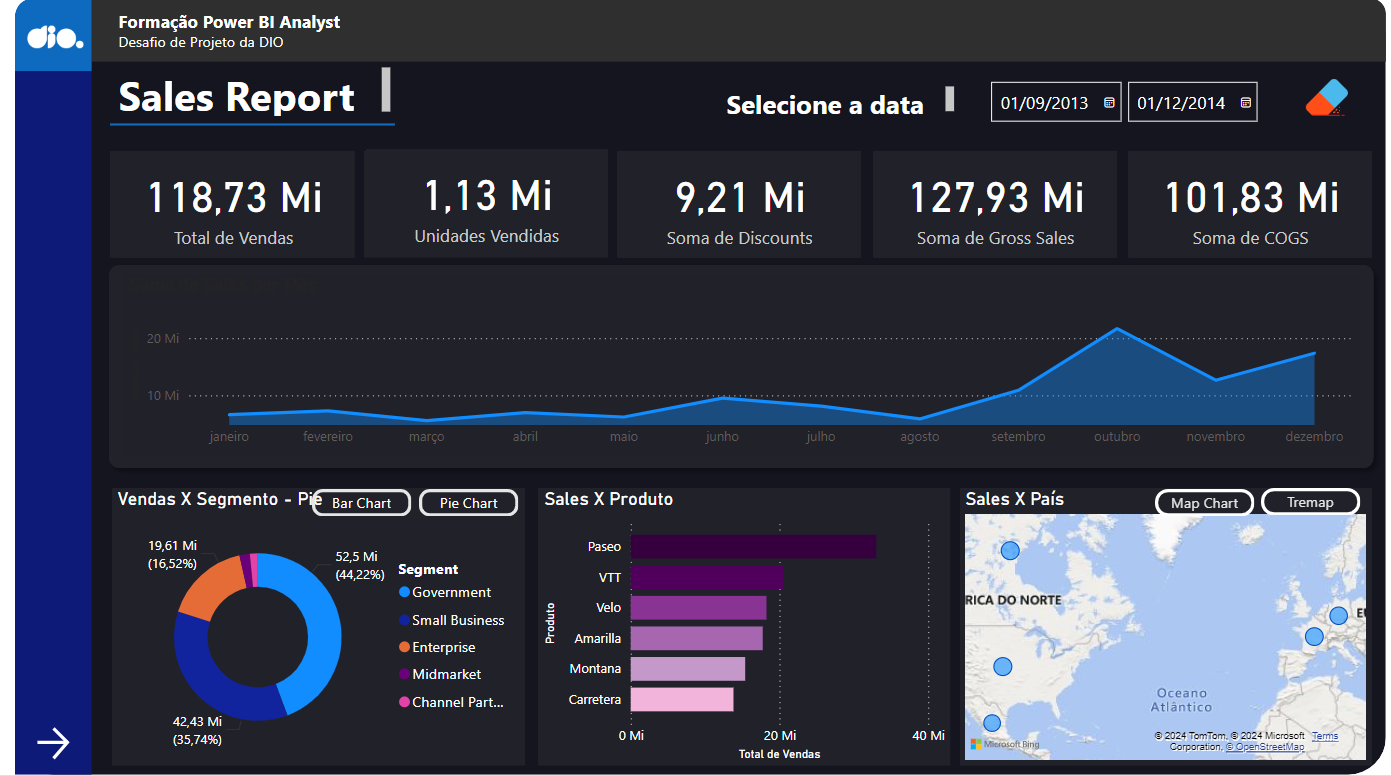

The page's visual inventory and layout, read from the dashboard file:
{"tool":"powerbi","page":{"name":"Página 1","canvas":[1280,720],"ordinal":0},"visuals":[{"type":"shape","box":[9.5,0,1270.5,719.7],"z":0},{"type":"shape","box":[9.5,0,71.4,719.7],"z":1000},{"type":"shape","box":[9.5,0,71.4,67.8],"z":2000},{"type":"shape","box":[80.9,0,1199.1,59.5],"z":3000},{"type":"image","box":[15.5,5.9,61.9,61.9],"z":4000},{"type":"textbox","box":[99.9,5.9,299.8,53.5],"z":5000},{"type":"shape","box":[1040.9,141.4,226,98.7],"z":6000},{"type":"shape","box":[804.2,141.4,226,98.7],"z":7000},{"type":"shape","box":[567.4,141.4,226,98.7],"z":8000},{"type":"shape","box":[333.1,141.4,226,98.7],"z":9000},{"type":"shape","box":[97.5,141.4,226,98.7],"z":10000},{"type":"shape","box":[97.5,104.7,264.1,25],"z":11000,"group":"g2"},{"type":"textbox","box":[99.9,59.5,261.7,54.7],"z":12000,"group":"g2"},{"type":"shape","box":[87.2,237.8,1190.4,206.7],"z":13000},{"type":"shape","box":[99.9,454.4,381.9,257],"z":14000},{"type":"shape","box":[493.7,454.4,381.9,257],"z":15000},{"type":"shape","box":[885.1,454.4,381.9,257],"z":16000},{"type":"areaChart","fields":{"Category":["financials.Date.Variation.Hierarquia de datas.Mês"],"Y":["Sum(financials. Sales)"]},"box":[109.4,255.8,1145.6,168.9],"z":17000},{"type":"card","fields":{"Values":["Sum(financials. Sales)"]},"box":[99.9,141.6,223.6,98.7],"z":18000},{"type":"card","fields":{"Values":["Sum(financials.Units Sold)"]},"box":[334.3,140.4,223.6,98.7],"z":19000},{"type":"card","fields":{"Values":["Sum(financials.Discounts)"]},"box":[568.6,141.6,223.6,98.7],"z":20000},{"type":"card","fields":{"Values":["Sum(financials.Gross Sales)"]},"box":[806.5,141.6,223.6,98.7],"z":21000},{"type":"card","fields":{"Values":["Sum(financials.COGS)"]},"box":[1042.1,141.6,223.6,98.7],"z":22000},{"type":"clusteredBarChart","title":"Sales X Produto","fields":{"Y":["Sum(financials. Sales)"],"Category":["financials.Product"]},"box":[494.9,454.4,380.7,257],"z":23000},{"type":"slicer","fields":{"Values":["financials.Date"]},"box":[900.5,67.8,280.7,53.5],"z":24000},{"type":"textbox","box":[663.8,77.3,221.3,36.9],"z":25000},{"type":"actionButton","box":[1195.6,73.1,59.7,42.2],"z":26000},{"type":"group","id":"g1","title":"Clean","box":[1194.3,67.8,62.6,50.1],"z":27000},{"type":"donutChart","title":"Vendas X Segmento - Pie","fields":{"Y":["Sum(financials. Sales)"],"Category":["financials.Segment"]},"box":[99.5,454.2,382.2,257.3],"z":28000},{"type":"image","title":"Clean","box":[1194.3,67.8,60.7,48.8],"z":29000,"group":"g1"},{"type":"actionButton","box":[1194.3,68.1,62.6,49.7],"z":30000,"group":"g1"},{"type":"map","title":"Sales X País","fields":{"Category":["financials.Country"],"Size":["Sum(financials. Sales)"]},"box":[885.1,454.4,380.7,257],"z":31000},{"type":"actionButton","box":[24.1,670.7,40.9,39.7],"z":32000},{"type":"actionButton","title":"Botão - bar","box":[284.8,455.2,92.1,25.4],"z":33000},{"type":"actionButton","title":"Botão - pie","box":[383.3,455.2,92.1,25.4],"z":34000},{"type":"actionButton","title":"Botão - map","box":[1065.6,454.7,92.1,25.4],"z":35000},{"type":"actionButton","title":"Botão - tremap","box":[1163.5,454.2,92.1,25.4],"z":36000},{"type":"group","id":"g2","title":"Grupo 1","box":[97.5,59.5,264.1,70.2],"z":36001}]}

Visuals, with their boxes in screenshot pixels (x1, y1, x2, y2), scaled from the page's 1280x720 canvas onto the 1391x776 screenshot:
shape: 10,0,1390,775
shape: 10,0,88,775
shape: 10,0,88,73
shape: 88,0,1390,64
image: 17,6,84,73
textbox: 109,6,434,64
shape: 1131,152,1377,259
shape: 874,152,1120,259
shape: 617,152,862,259
shape: 362,152,608,259
shape: 106,152,352,259
shape: 106,113,393,140
textbox: 109,64,393,123
shape: 95,256,1388,479
shape: 109,490,524,767
shape: 537,490,952,767
shape: 962,490,1377,767
areaChart - financials.Date.Variation.Hierarquia de datas.Mês x Sum(financials. Sales): 119,276,1364,458
card - Sum(financials. Sales): 109,153,352,259
card - Sum(financials.Units Sold): 363,151,606,258
card - Sum(financials.Discounts): 618,153,861,259
card - Sum(financials.Gross Sales): 876,153,1119,259
card - Sum(financials.COGS): 1132,153,1375,259
"Sales X Produto" clusteredBarChart: 538,490,952,767
slicer - financials.Date: 979,73,1284,131
textbox: 721,83,962,123
actionButton: 1299,79,1364,124
"Clean" group: 1298,73,1366,127
"Vendas X Segmento - Pie" donutChart: 108,490,523,767
"Clean" image: 1298,73,1364,126
actionButton: 1298,73,1366,127
"Sales X País" map: 962,490,1376,767
actionButton: 26,723,71,766
"Botão - bar" actionButton: 309,491,410,518
"Botão - pie" actionButton: 417,491,517,518
"Botão - map" actionButton: 1158,490,1258,517
"Botão - tremap" actionButton: 1264,490,1364,517
"Grupo 1" group: 106,64,393,140
